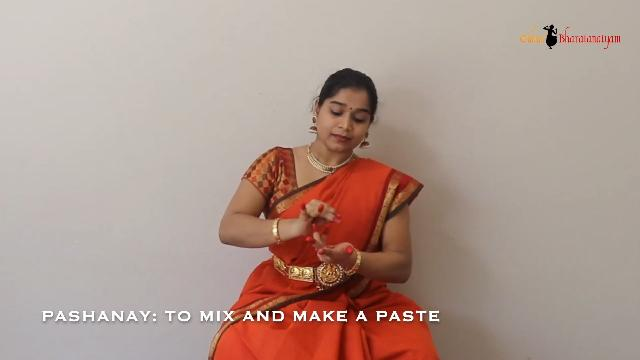katak: (314, 221, 372, 281)
